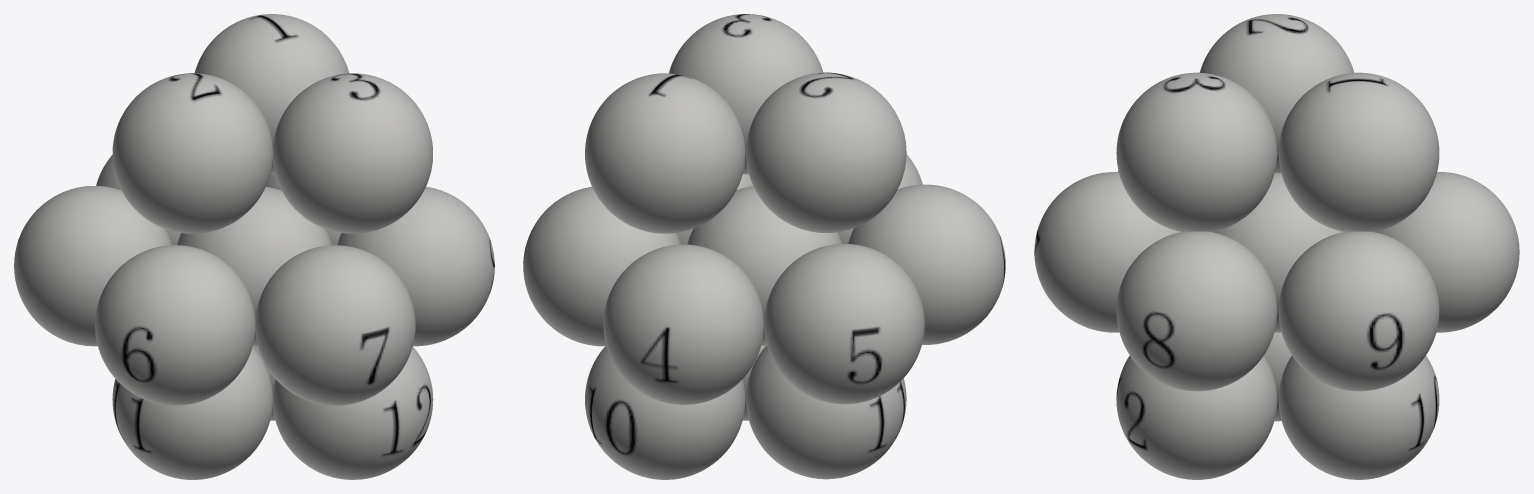
Rendered from liufang4_2.FBX.
3 views of the same model, side by side, from view 1: azimuth 30°, elevation 25°; view 2: azimuth 150°, elevation 25°; view 3: azimuth 270°, elevation 25° (orthographic).
Visible parts, largest first — view 1: 对象379; view 2: 对象379; view 3: 对象379.
Boxes of the visible parts, bbox=[...] form: 对象379: bbox=[14, 14, 494, 479]; 对象379: bbox=[523, 14, 1005, 479]; 对象379: bbox=[1034, 14, 1519, 479].
Bounding box in the file's own units: 109 × 107 × 120.
1 material, 1 textured.
